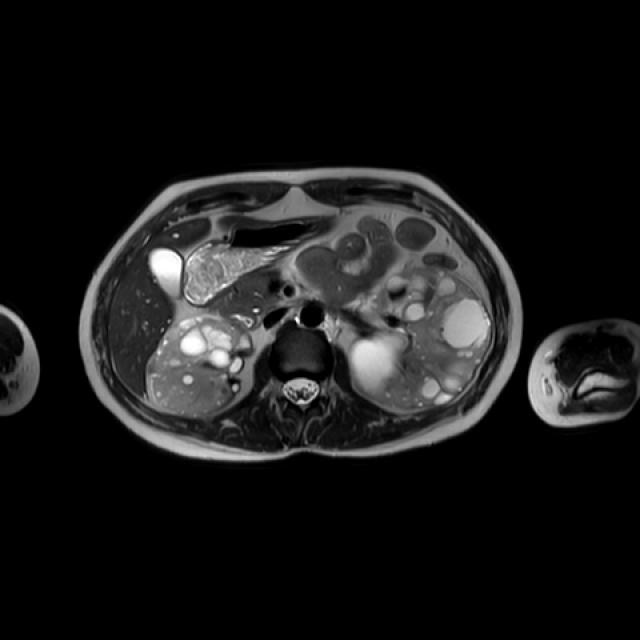sag: (149, 317, 255, 417)
sol: (346, 267, 494, 412)
